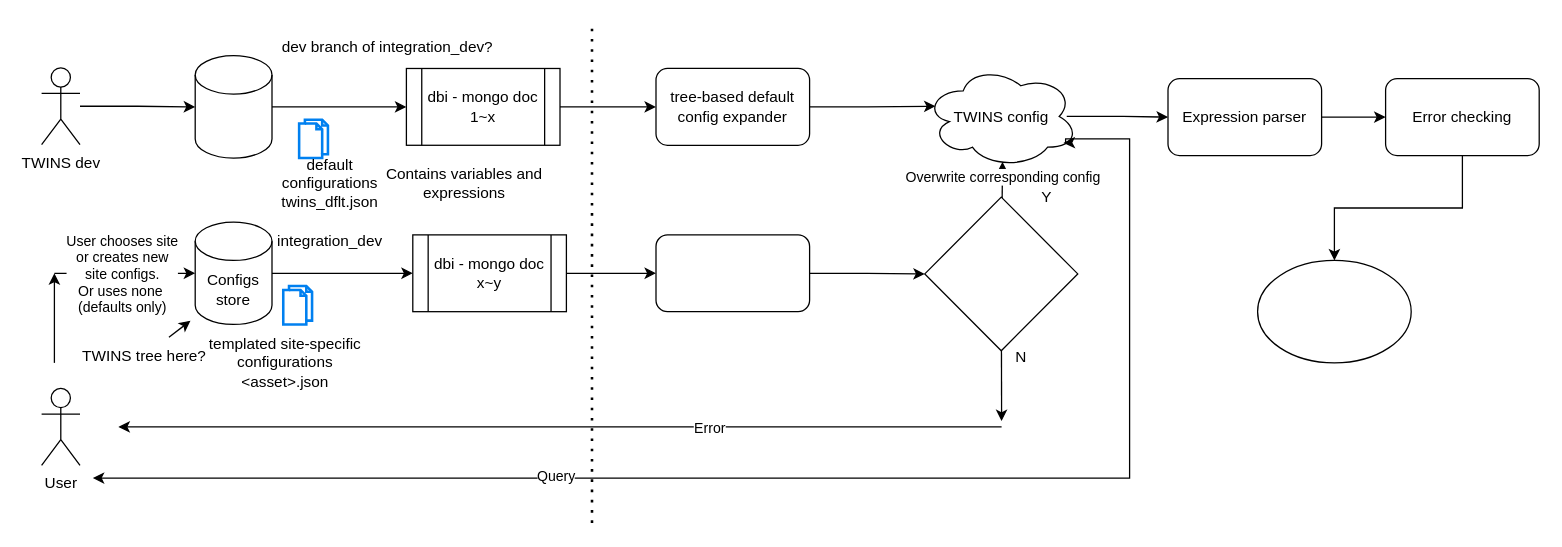
This 1562x547 diagram has some shape labels left out. Each missing label, with the centre of its shape:
Configs match format, type, etc: the point at 1001,273
Defaults store: the point at 233,106
Start TWINS main loop: the point at 1333,311
template expansion: the point at 732,273
